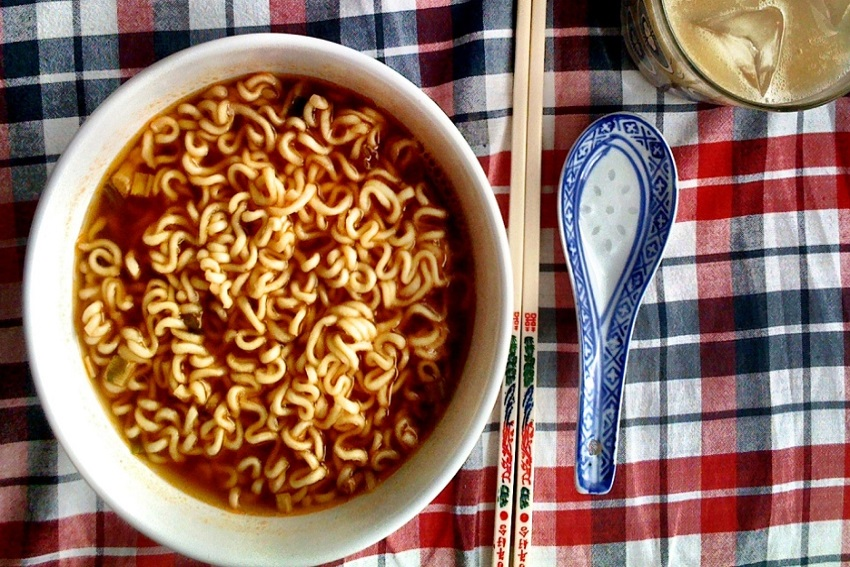Mie: (51, 110, 497, 509)
